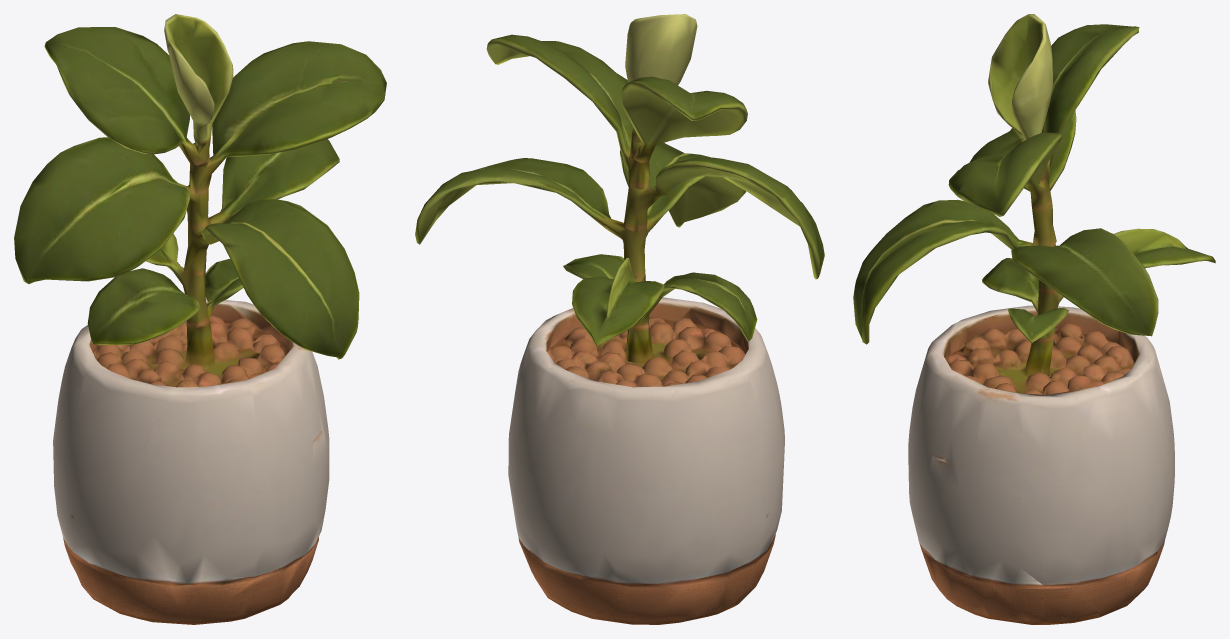
Rendered from plant-tall.low.glb.
3 views of the same model, side by side, from view 1: azimuth 30°, elevation 25°; view 2: azimuth 150°, elevation 25°; view 3: azimuth 270°, elevation 25° (orthographic). The views are drawn at different scales.
Parts seen in each view (by area): view 1: tripo_node_f10ae956-6673-4ded-a62b-b8a8e37a01b8; view 2: tripo_node_f10ae956-6673-4ded-a62b-b8a8e37a01b8; view 3: tripo_node_f10ae956-6673-4ded-a62b-b8a8e37a01b8.
Part boxes in pixels (<box>): tripo_node_f10ae956-6673-4ded-a62b-b8a8e37a01b8: <box>14,14,386,624</box>; tripo_node_f10ae956-6673-4ded-a62b-b8a8e37a01b8: <box>415,14,824,624</box>; tripo_node_f10ae956-6673-4ded-a62b-b8a8e37a01b8: <box>853,14,1215,624</box>.
Bounding box in the file's own units: 0.8675 × 1.35 × 0.7979.
1 material, 1 textured.
